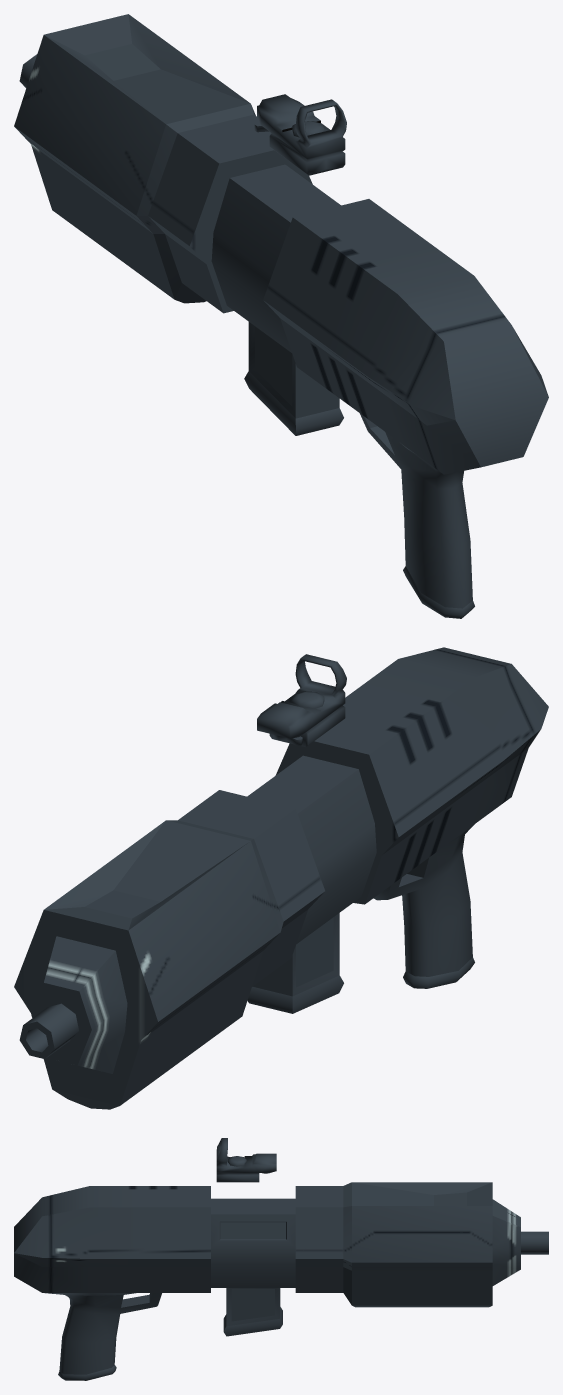
File: carbine.glb
The picture shows the model from 3 angles, top to bottom: view 1: azimuth 30°, elevation 25°; view 2: azimuth 150°, elevation 25°; view 3: azimuth 270°, elevation 25°; orthographic projection. The views are drawn at different scales.
Visible parts, largest first — view 1: carbine; view 2: carbine; view 3: carbine.
Part boxes in pixels (bbox=[...]): carbine: bbox=[14, 14, 548, 618]; carbine: bbox=[14, 647, 548, 1109]; carbine: bbox=[14, 1138, 548, 1380].
Bounding box in the file's own units: 0.1432 × 0.3884 × 0.8.
Materials: 1 (1 with a texture image).
